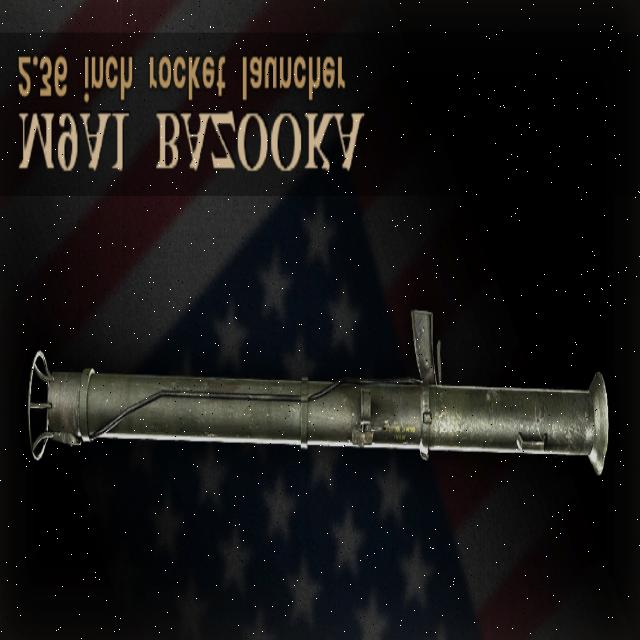bazooka: (21, 301, 613, 490)
